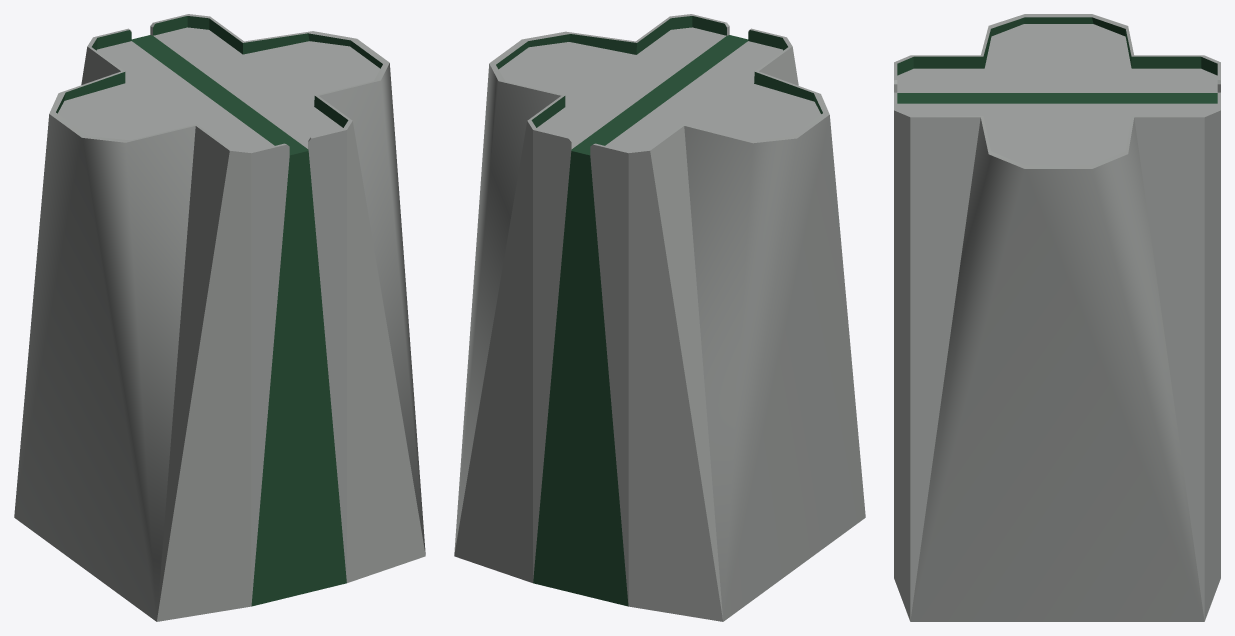
The model's file is Arena_standart_cross.fbx.
3 renders of one model, left to right at view 1: azimuth 30°, elevation 25°; view 2: azimuth 150°, elevation 25°; view 3: azimuth 270°, elevation 25°, orthographic. The views are drawn at different scales.
Visible parts, largest first — view 1: cross; view 2: cross; view 3: cross.
Boxes of the visible parts, bbox=[...] form: cross: bbox=[14, 14, 425, 621]; cross: bbox=[454, 14, 865, 621]; cross: bbox=[894, 14, 1220, 621].
Bounding box in the file's own units: 2155 × 3032 × 1920.
